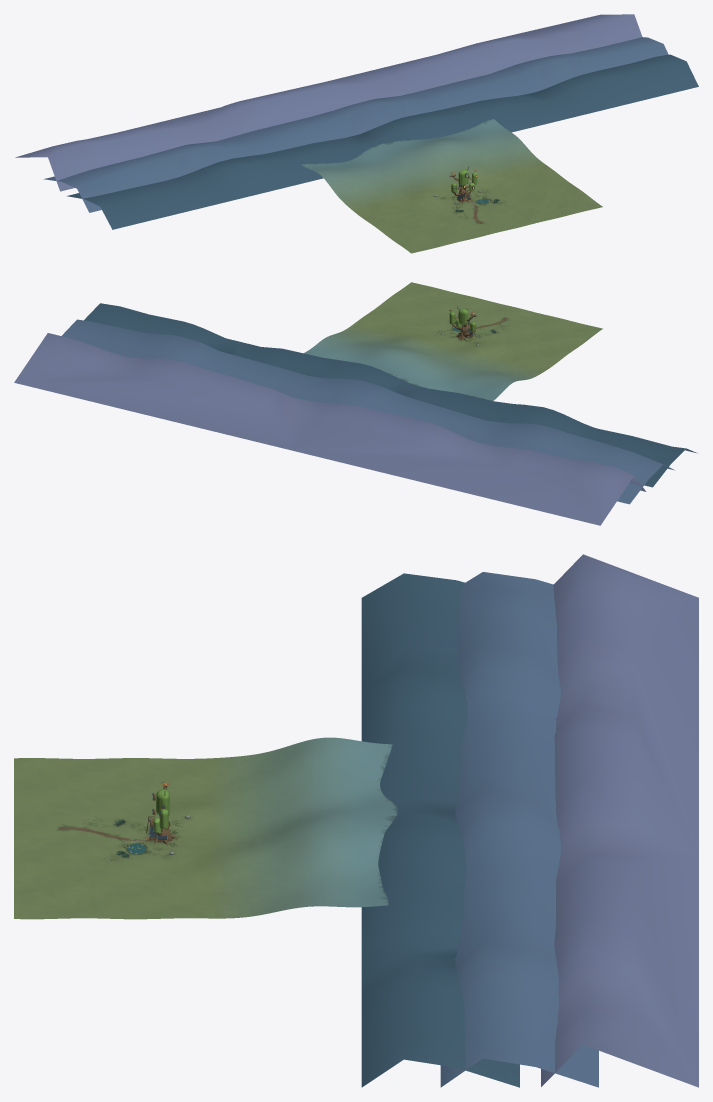
Rendered from treehouse-runtime.glb.
3 views of the same model, one above another, from view 1: azimuth 30°, elevation 25°; view 2: azimuth 150°, elevation 25°; view 3: azimuth 270°, elevation 25° (orthographic). The views are drawn at different scales.
Visible parts, largest first — view 1: Environment; view 2: Environment; view 3: Environment.
Part boxes in pixels (<box>): Environment: <box>15,14,698,253</box>; Environment: <box>14,282,697,525</box>; Environment: <box>14,554,698,1087</box>.
Bounding box in the file's own units: 220 × 11.73 × 130.
Materials: 40 (1 with a texture image).
